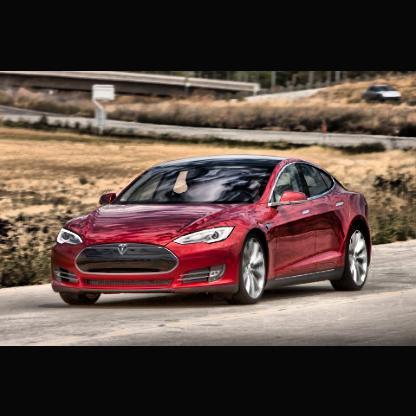Tesla Model S Sedan 2012: (52, 155, 374, 309)
